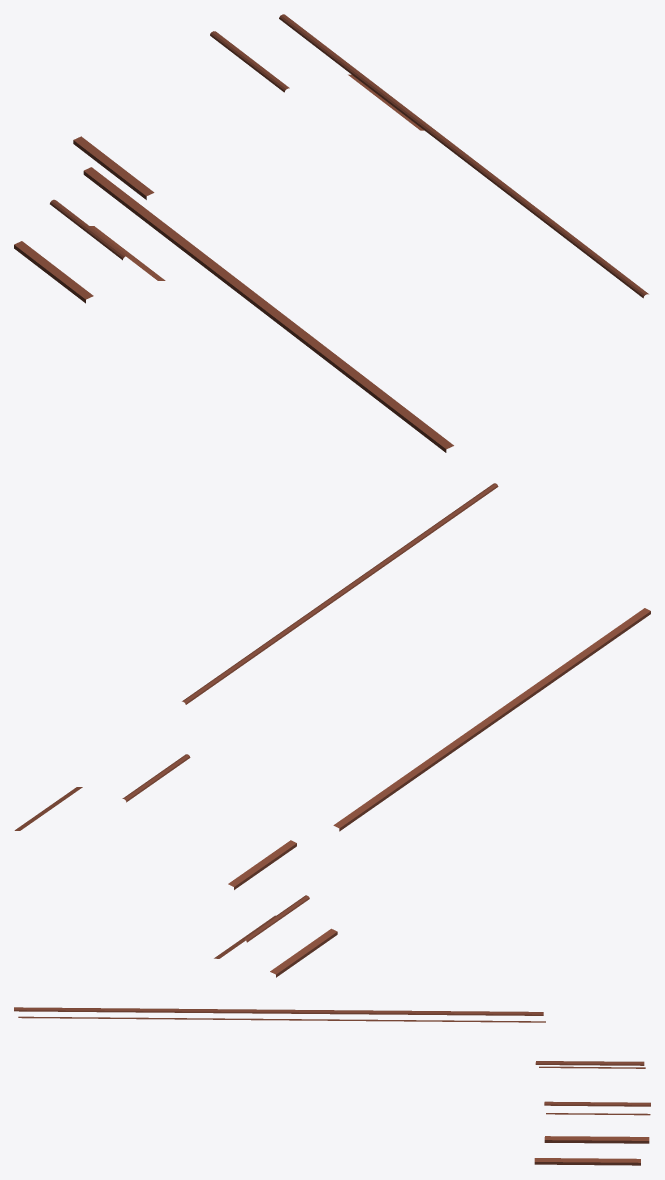
The picture shows the model from 3 angles, top to bottom: view 1: azimuth 30°, elevation 25°; view 2: azimuth 150°, elevation 25°; view 3: azimuth 270°, elevation 25°; orthographic projection. The views are drawn at different scales.
Parts seen in each view (by area): view 1: detail; view 2: detail; view 3: detail.
Boxes of the visible parts, <box> form: detail: <box>14,14,648,452</box>; detail: <box>14,483,650,977</box>; detail: <box>14,1007,650,1165</box>.
Bounding box in the file's own units: 14.26 × 9.49 × 31.77.
